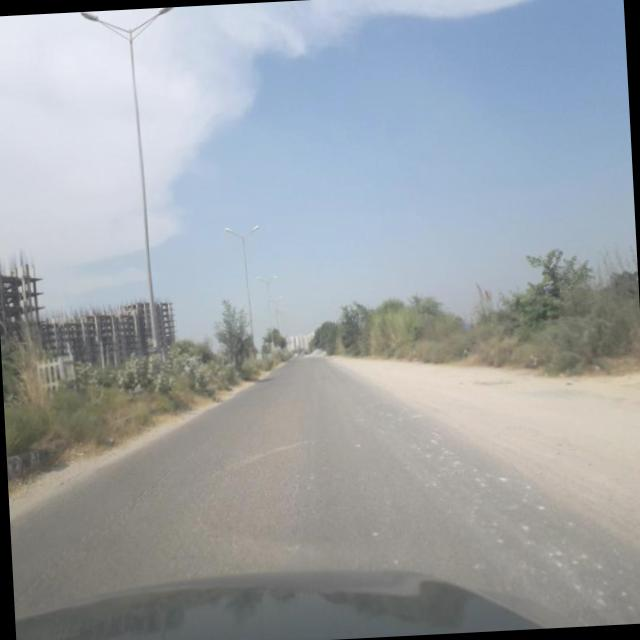crack: (49, 424, 392, 568)
pothole: (86, 414, 228, 528), (280, 436, 316, 555)
